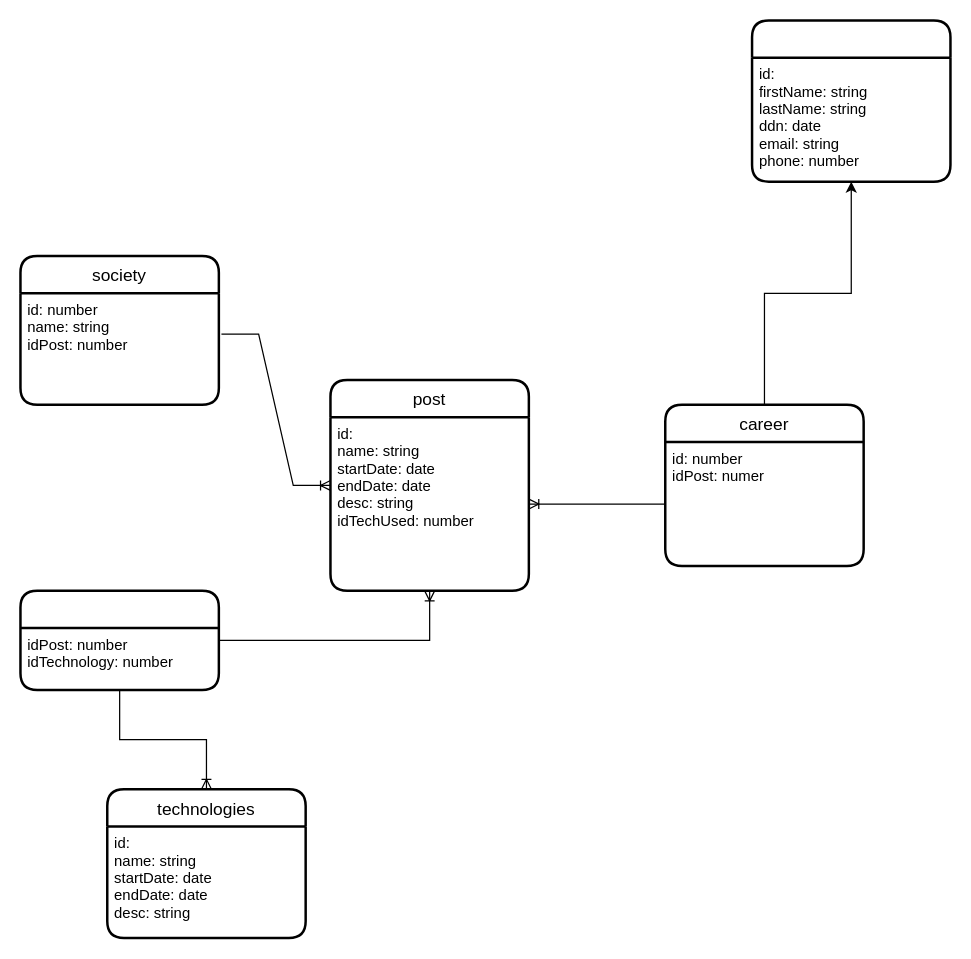
This 971x959 diagram has some shape labels left out. The box of each missing label's shape, as (x1, y1, x2, y2) in pixels:
technologiesUsed: (19, 589, 219, 691)
user: (750, 19, 951, 182)
